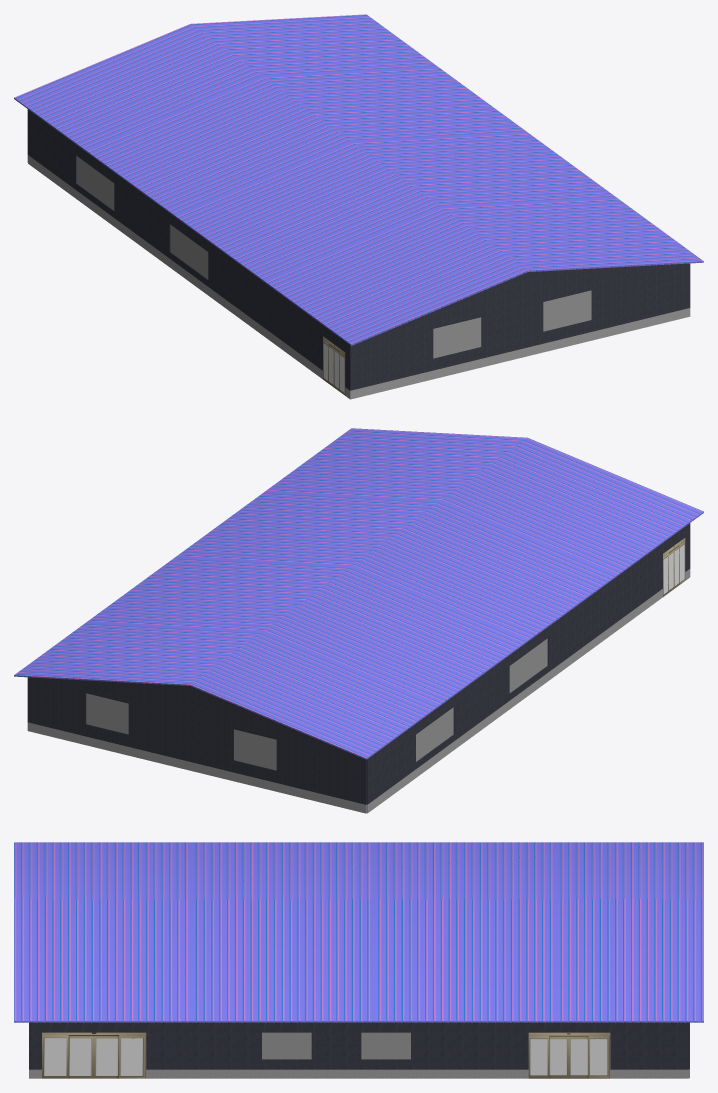
3 views of the same model, one above another, from view 1: azimuth 30°, elevation 25°; view 2: azimuth 150°, elevation 25°; view 3: azimuth 270°, elevation 25° (orthographic). The views are drawn at different scales.
Visible parts, largest first — view 1: ss4, qiang, qiang6, Boli, door2; view 2: ss4, qiang5, qiang6, Boli, door2; view 3: ss4, qiang7, door, door1, Boli.
Part boxes in pixels (x1,y1,x2,y2): ss4: (14, 14, 703, 345); qiang: (351, 263, 689, 399); qiang6: (28, 109, 351, 399); Boli: (76, 156, 591, 358); door2: (323, 336, 345, 395); ss4: (14, 428, 703, 759); qiang5: (27, 677, 367, 813); qiang6: (367, 523, 690, 813); Boli: (86, 638, 547, 770); door2: (663, 538, 685, 596); ss4: (14, 842, 703, 1022); qiang7: (29, 1022, 688, 1078); door: (42, 1032, 146, 1078); door1: (528, 1032, 610, 1078); Boli: (262, 1032, 410, 1059).
Bounding box in the file's own units: 72.71 × 18.26 × 121.
